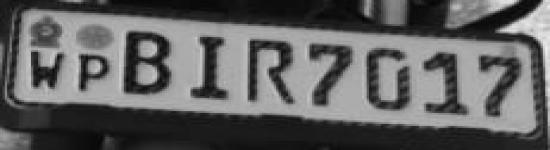0: (357, 45, 418, 117)
1: (418, 47, 474, 122)
7: (300, 40, 356, 111), (474, 49, 528, 122)
B: (118, 27, 176, 99)
I: (177, 31, 236, 106)
P: (72, 51, 113, 96)
R: (237, 34, 300, 110)
W: (24, 48, 71, 92)
